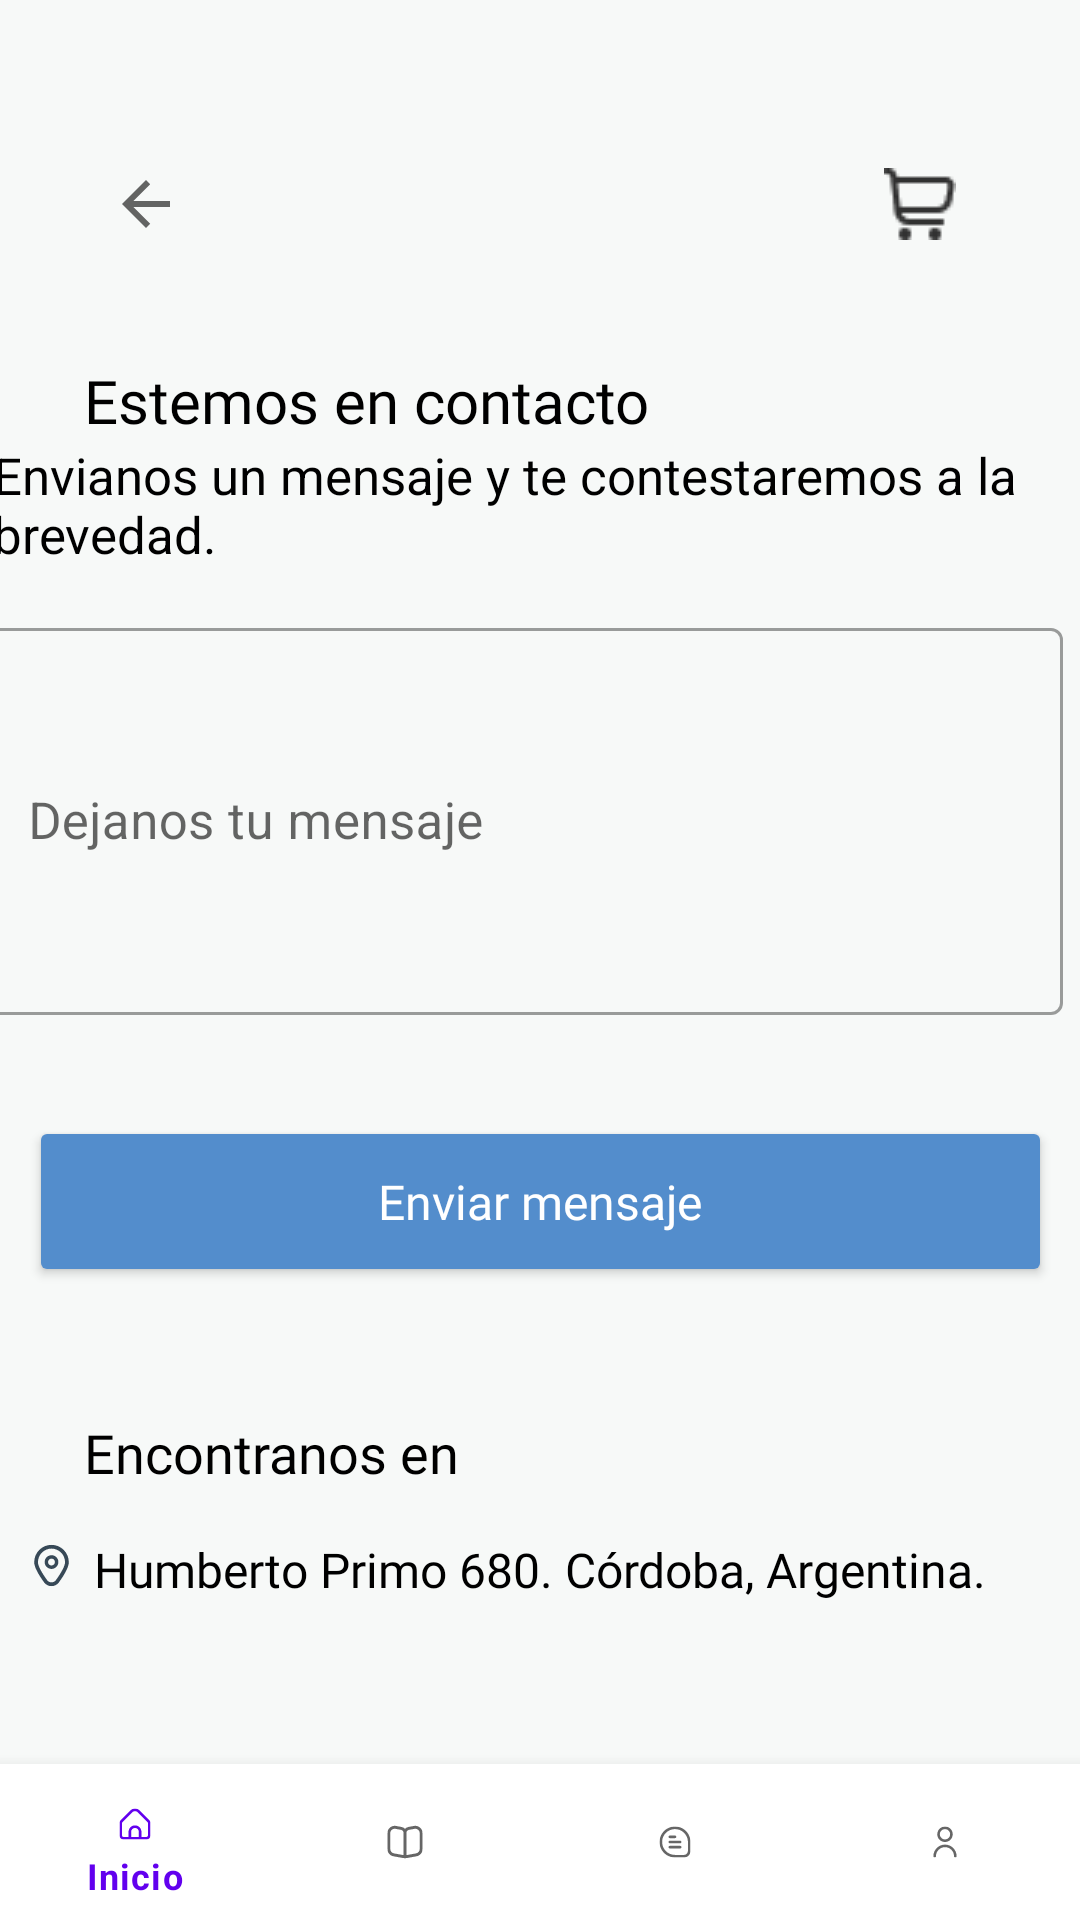

Named icons in this screenshot (1080w x 1920h) and their bounding boxes, {"x1": x1, "y1": y1, "x2": x2, "y2": y2}:
shoppingcarticon: {"x1": 884, "y1": 168, "x2": 956, "y2": 240}
